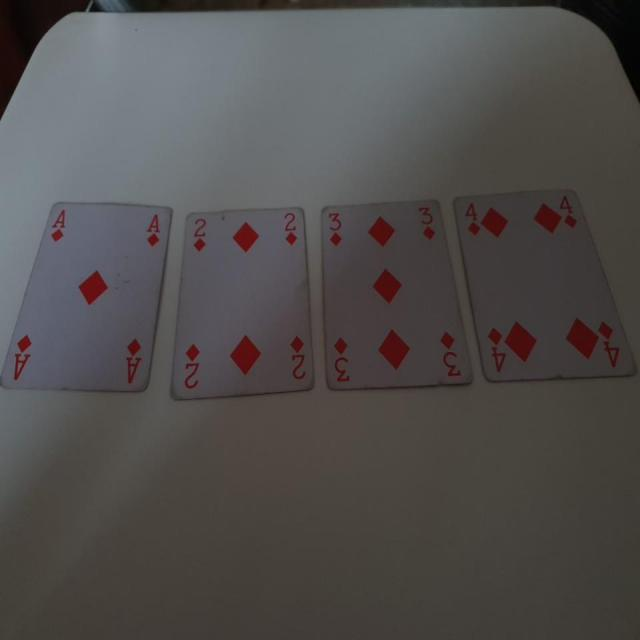2 Diamonds: (171, 205, 315, 400)
3 Diamonds: (319, 198, 474, 393)
4 Diamonds: (451, 183, 635, 385)
A Diamonds: (3, 198, 174, 401)
